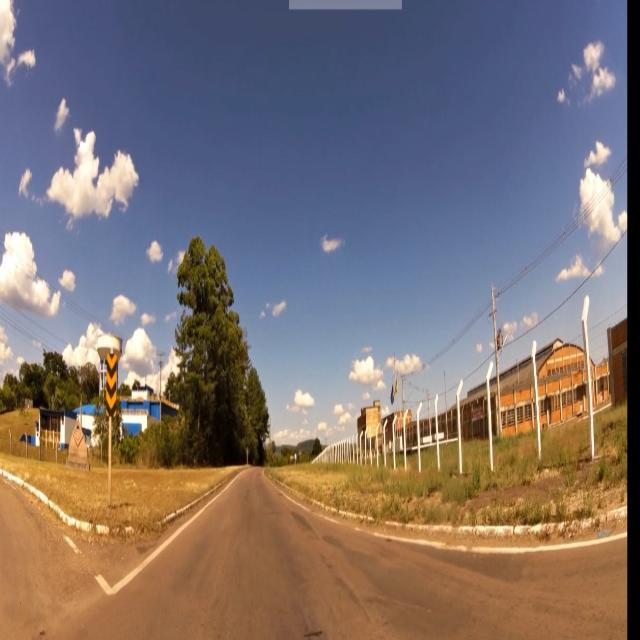MP: (105, 352, 118, 422)
